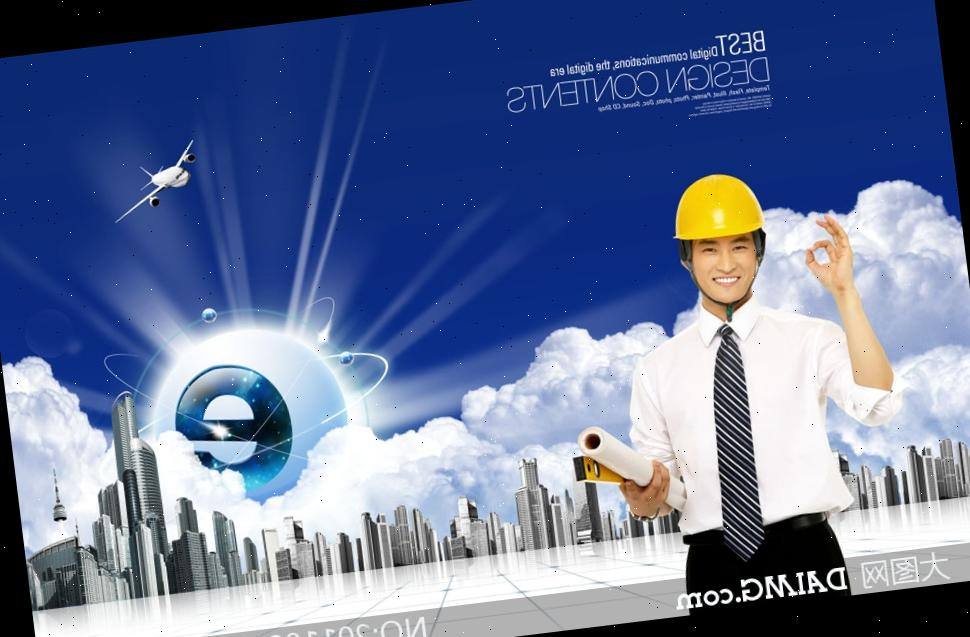helmet: (664, 164, 772, 248)
no_wear: (624, 305, 866, 548)
